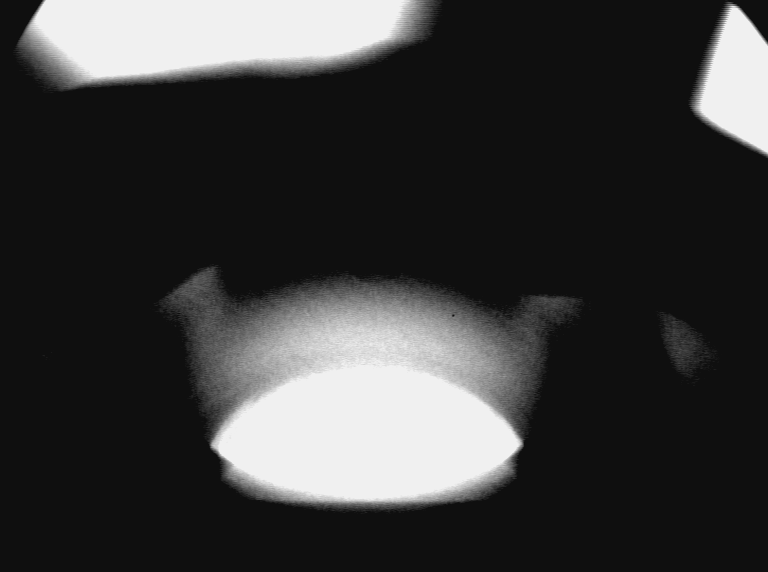defect: (154, 272, 239, 353)
